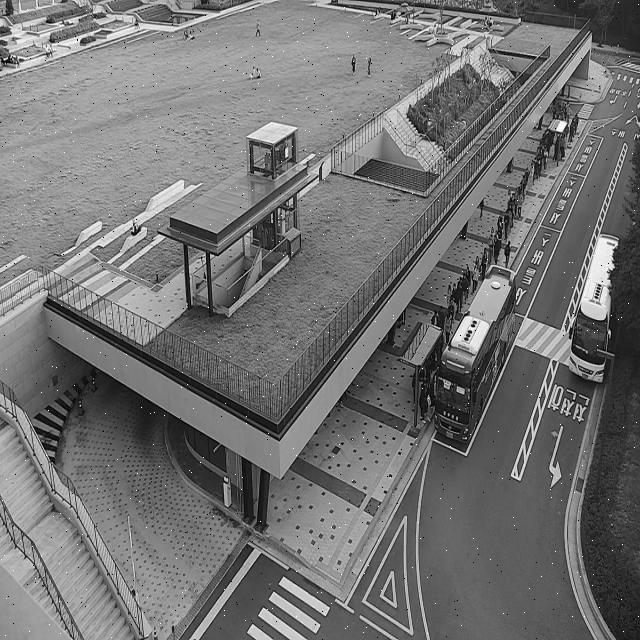queue: (417, 98, 571, 426)
